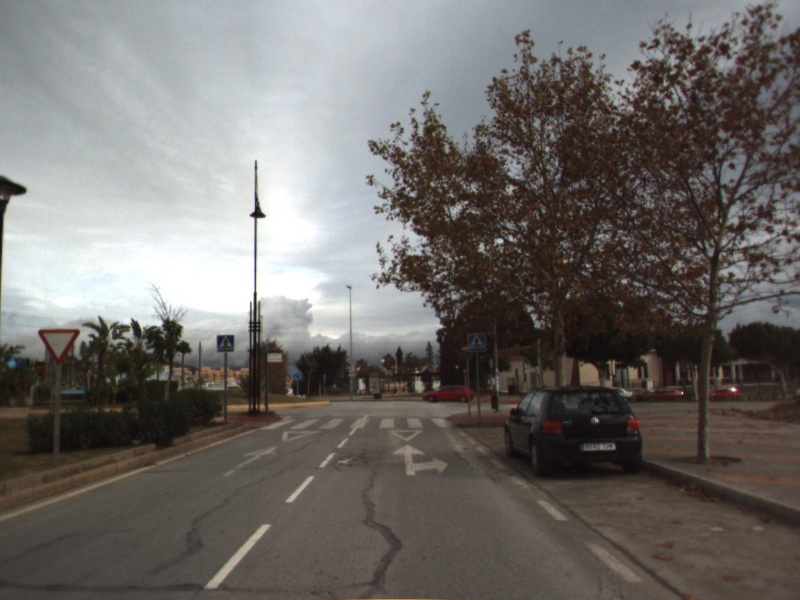STRAIGHT: (220, 443, 279, 479)
STRAIGHT_RIGHT: (389, 442, 450, 477)
